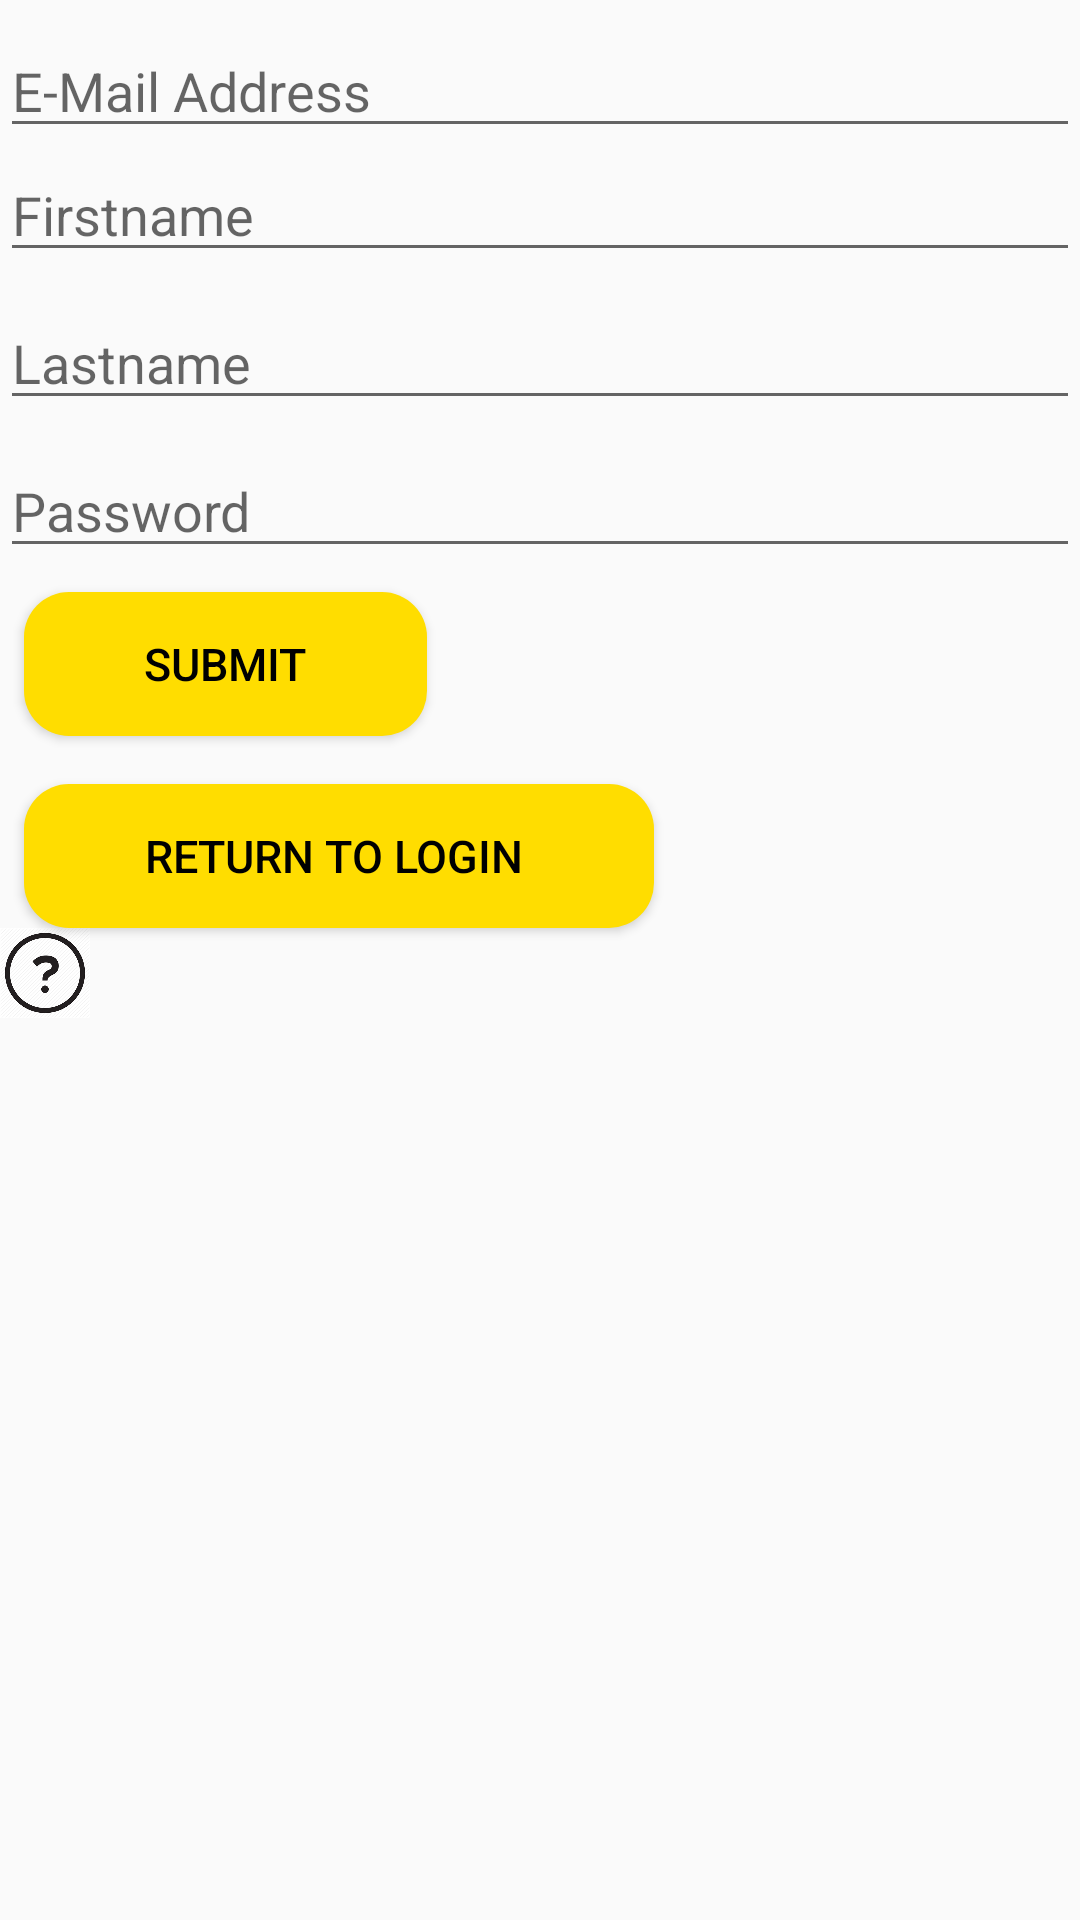

Locate icon controls on the screen. Image size 1080 × 1920, boxes as region(x1, y1, x2, y2).
helppnp: region(5, 933, 85, 1013)
